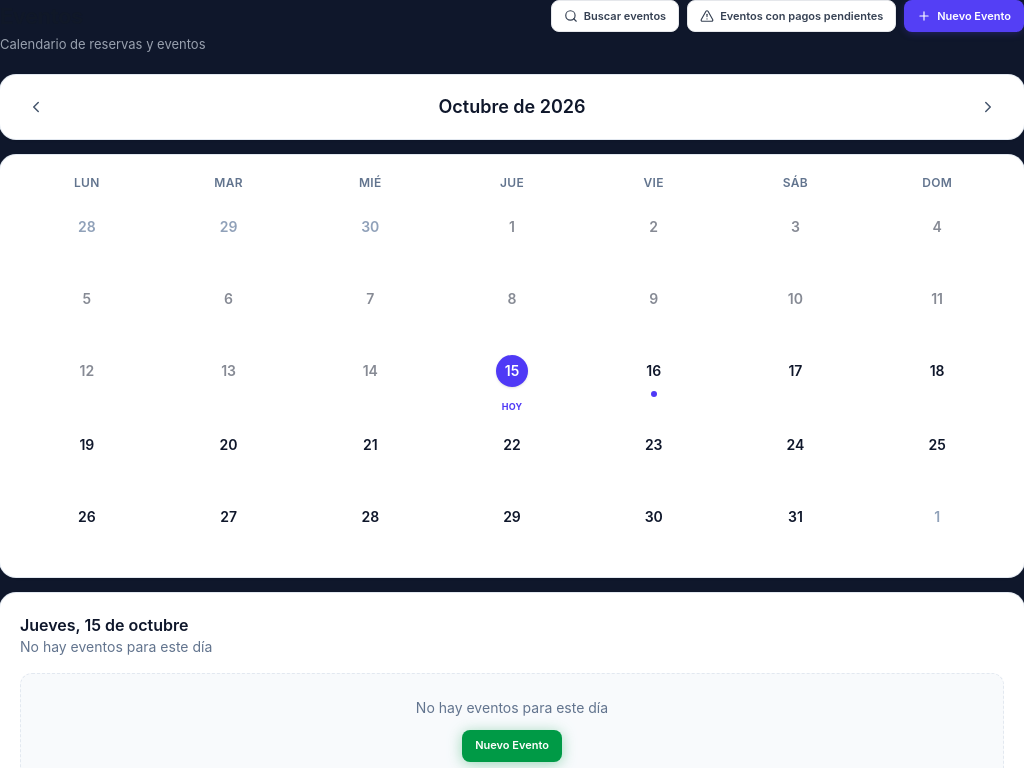
Test: EventosPage › keeps the day popup and availability flows intact
Click the button "16" at {"x": 654, "y": 384}, box x1=583 y1=350 x2=724 y2=417
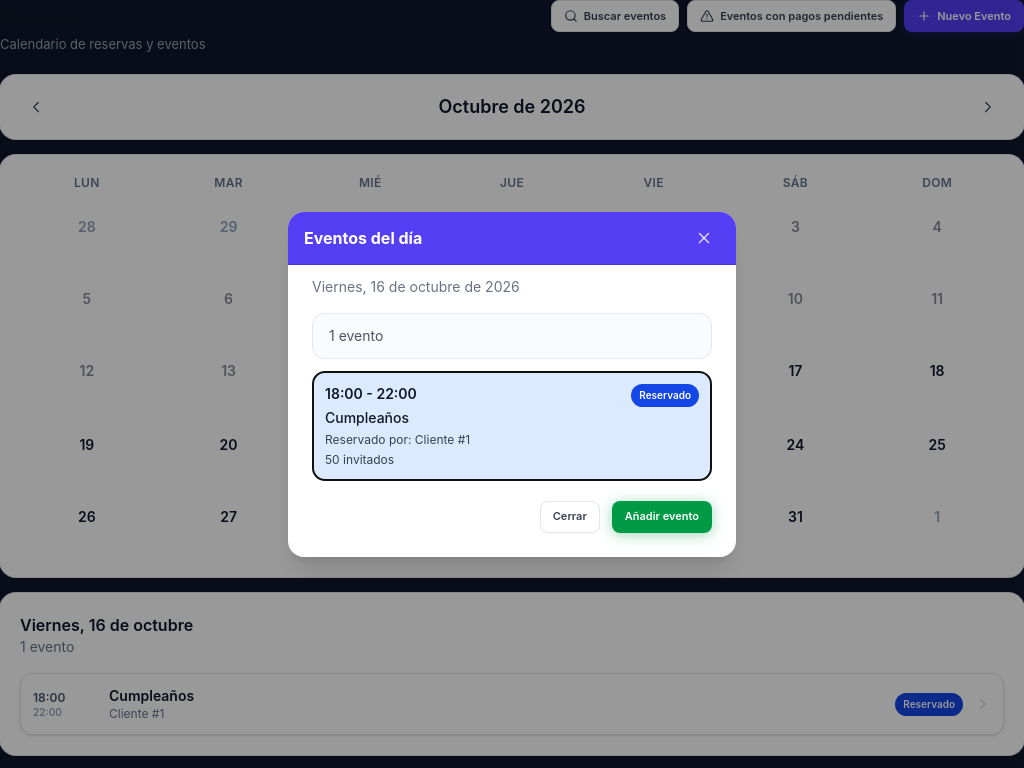
Expected: the button "Añadir evento" is shown, x1=612 y1=500 x2=712 y2=532
